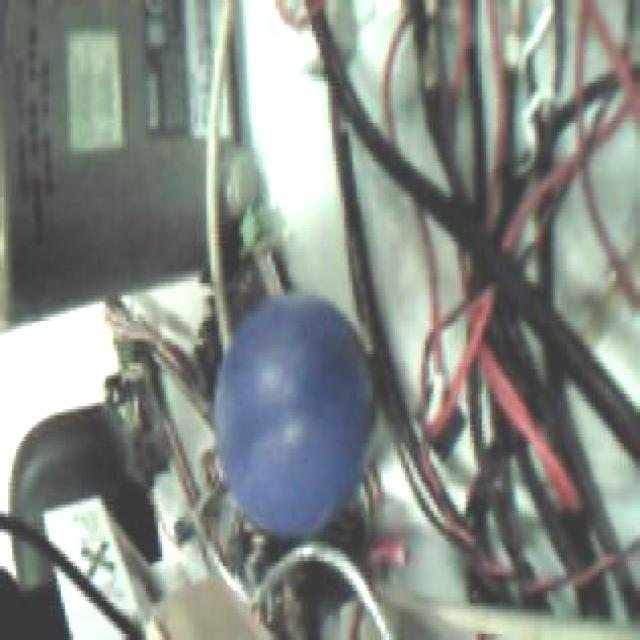BallPurple: (212, 291, 378, 536)
